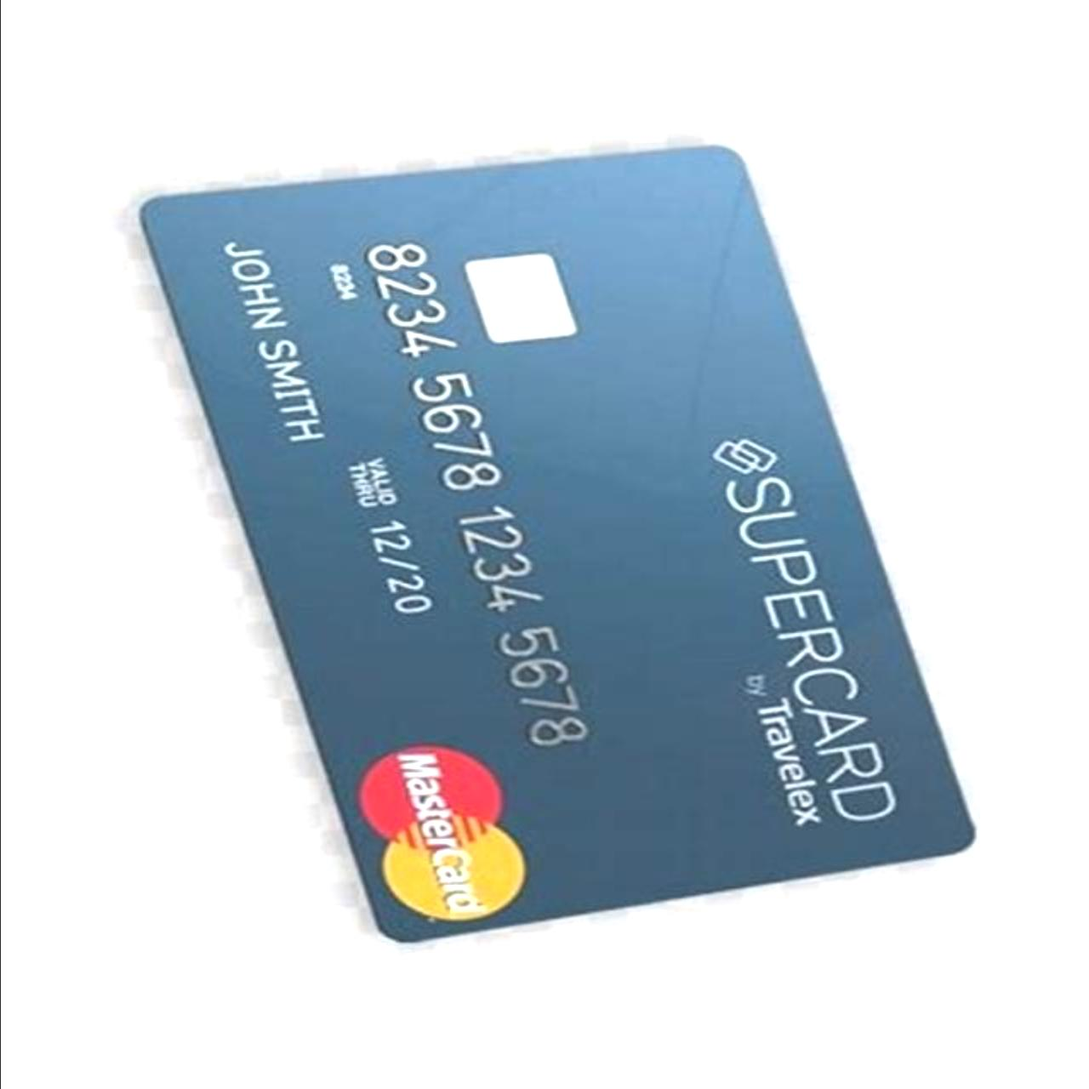credit_card: (109, 143, 980, 960)
